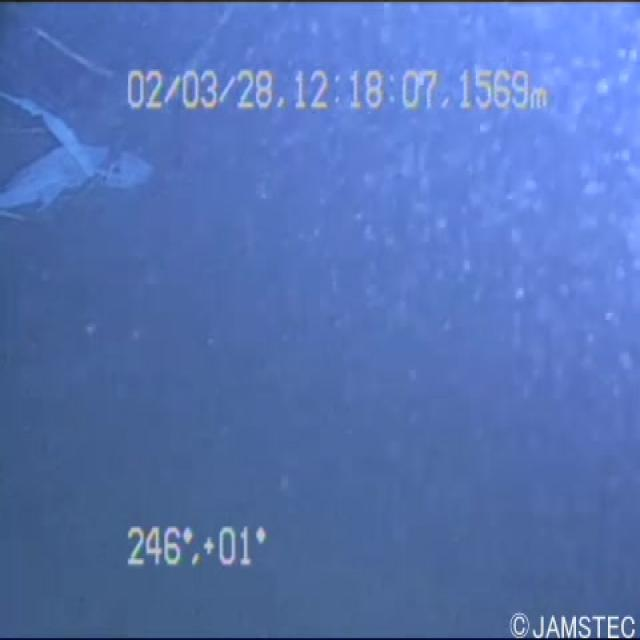plastic: (0, 46, 148, 265)
